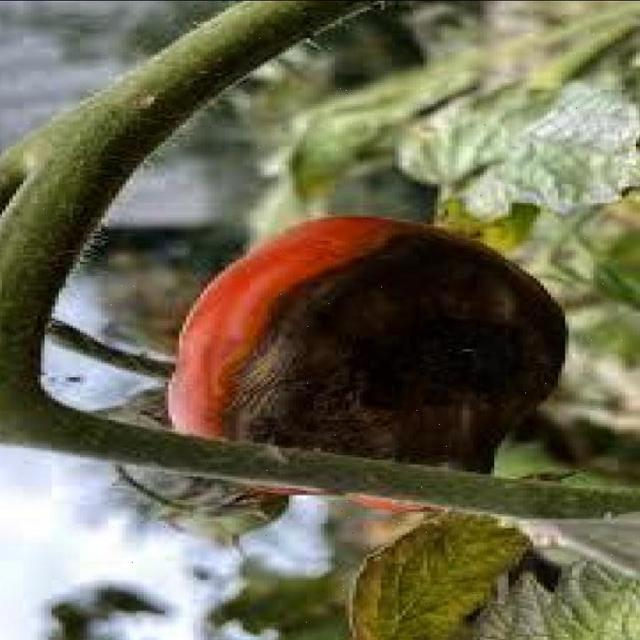Blossom End Rot Fruit: (140, 154, 377, 330)
